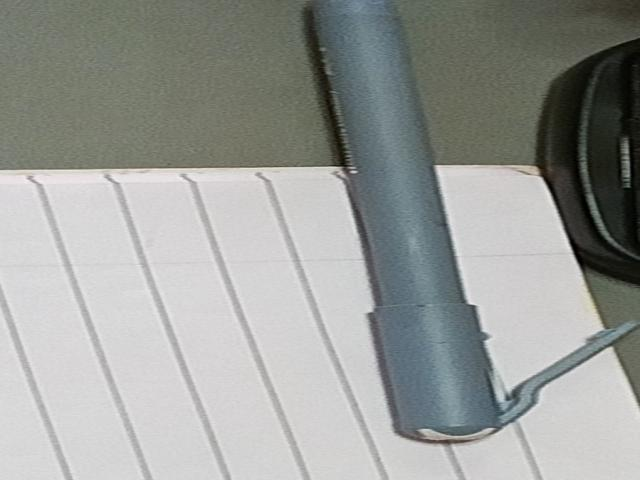PEN: (273, 0, 639, 450)
